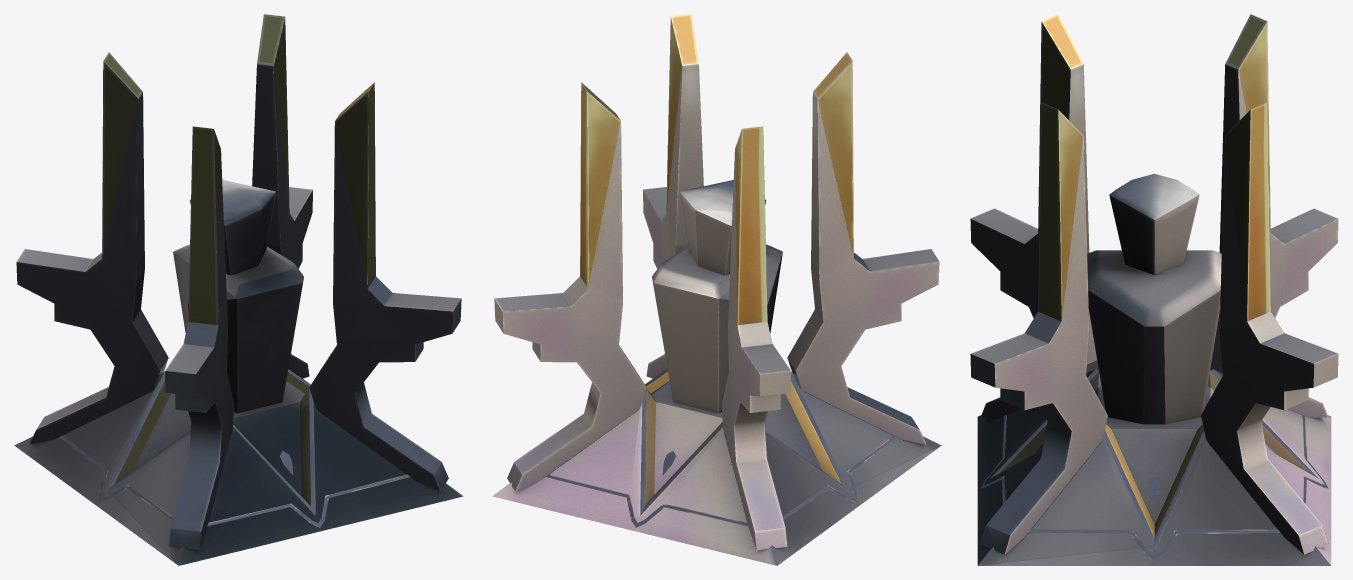
File: S_latelan_arsenal.fbx
The picture shows the model from 3 angles, left to right: view 1: azimuth 30°, elevation 25°; view 2: azimuth 150°, elevation 25°; view 3: azimuth 270°, elevation 25°; orthographic projection. The views are drawn at different scales.
Visible parts, largest first — view 1: S_latelan_arsenal; view 2: S_latelan_arsenal; view 3: S_latelan_arsenal.
Part boxes in pixels (<box>): S_latelan_arsenal: <box>14,14,463,565</box>; S_latelan_arsenal: <box>492,14,941,565</box>; S_latelan_arsenal: <box>970,14,1338,565</box>.
Size of the model in its own units: 0.8141 by 1.05 by 0.8141.
Materials: 1 (1 with a texture image).
